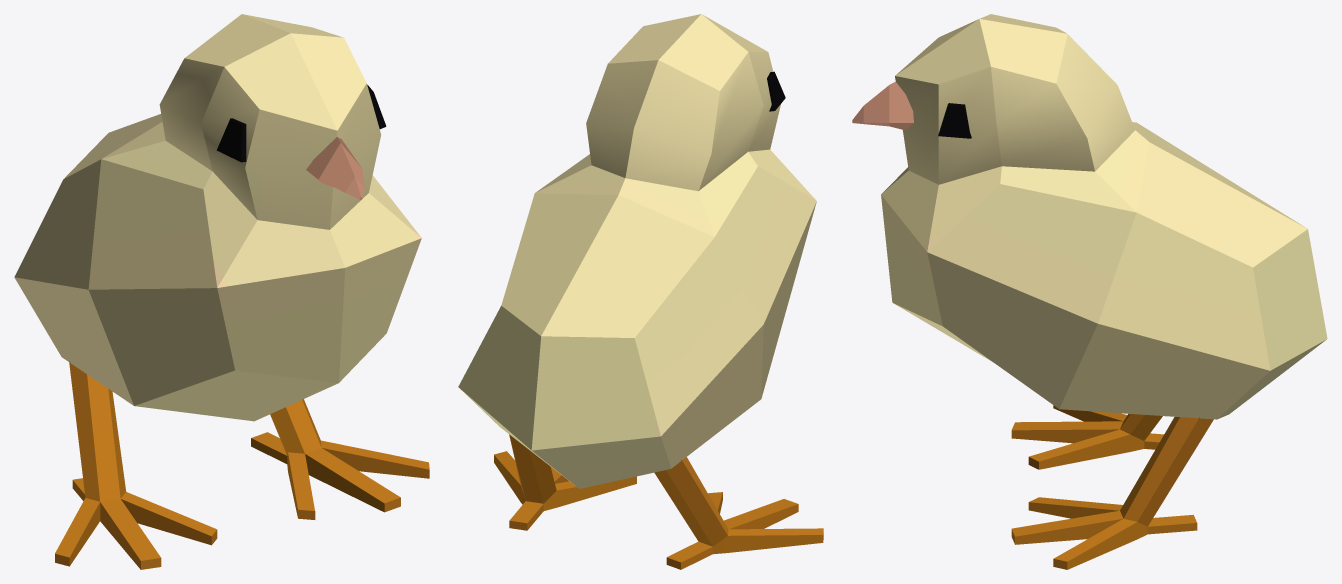
Rendered from 7-uNQC5megf.glb.
3 renders of one model, left to right at view 1: azimuth 30°, elevation 25°; view 2: azimuth 150°, elevation 25°; view 3: azimuth 270°, elevation 25°, orthographic. The views are drawn at different scales.
Parts seen in each view (by area): view 1: Geo_Chick; view 2: Geo_Chick; view 3: Geo_Chick.
Part boxes in pixels (x1,y1,x2,y2): Geo_Chick: (14,14,429,569); Geo_Chick: (458,14,823,569); Geo_Chick: (852,14,1327,569).
Size of the model in its own units: 0.7538 by 1 by 0.9187.
1 material, 1 textured.
